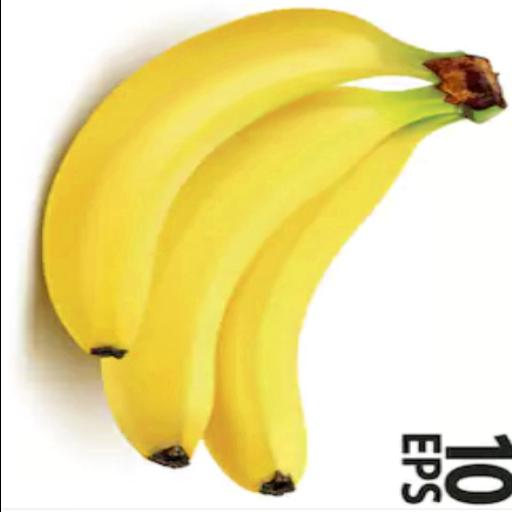banana: (42, 10, 459, 358), (101, 87, 456, 467), (205, 115, 459, 495)
